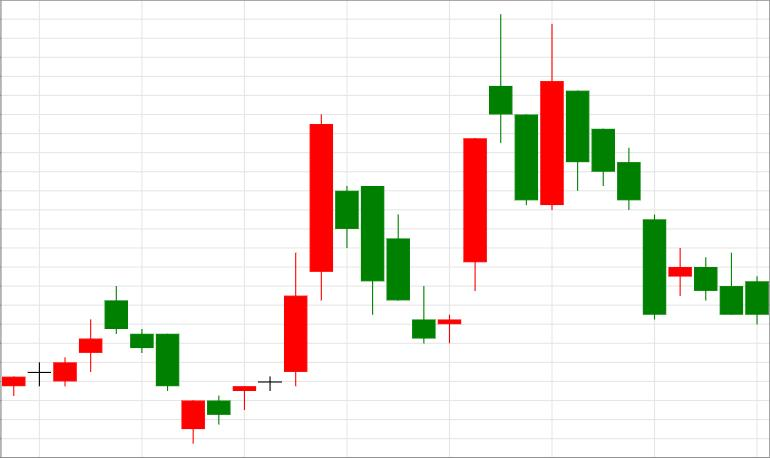shooting_star_fall: (412, 14, 512, 345)
